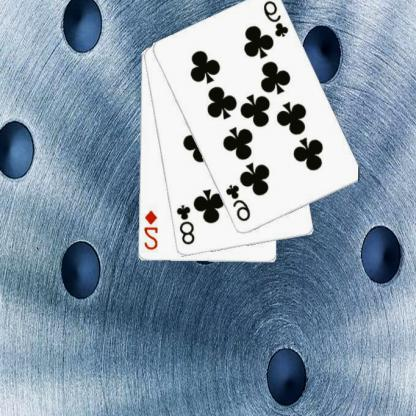2D: (143, 208, 160, 251)
8C: (175, 203, 198, 247)
9C: (224, 182, 254, 223), (262, 0, 292, 39)
